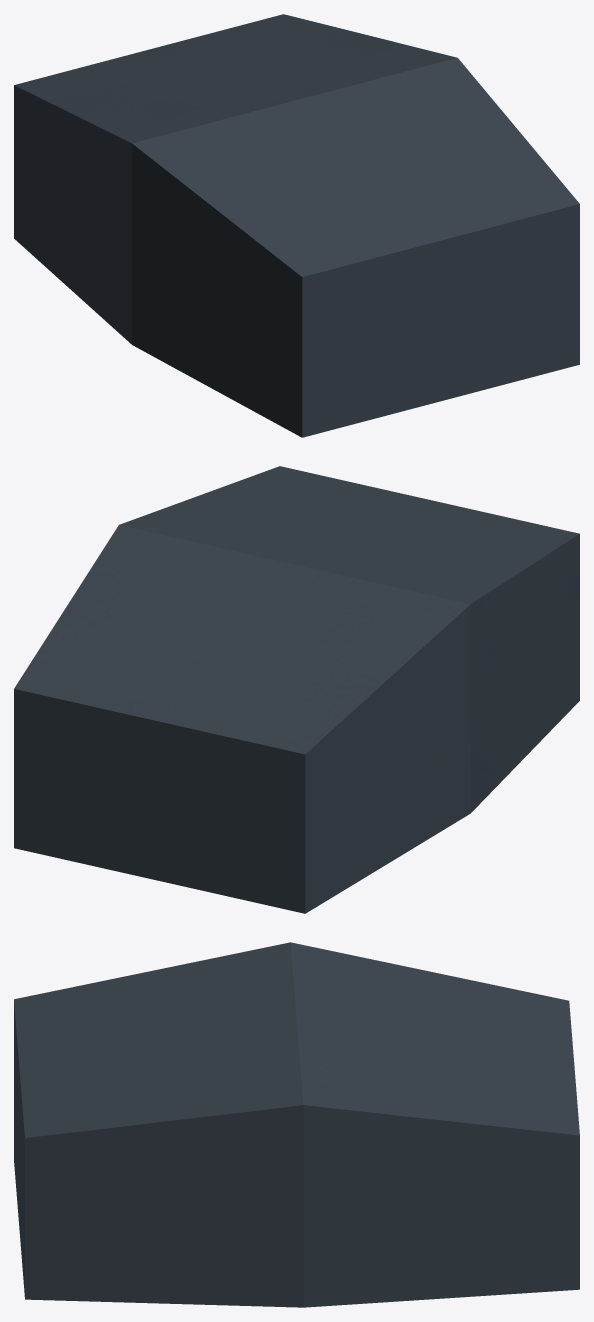
File: 05_computer_mouse.glb
The picture shows the model from 3 angles, top to bottom: view 1: azimuth 30°, elevation 25°; view 2: azimuth 150°, elevation 25°; view 3: azimuth 270°, elevation 25°; orthographic projection. The views are drawn at different scales.
Parts seen in each view (by area): view 1: 05_computer_mouse_Intact; view 2: 05_computer_mouse_Intact; view 3: 05_computer_mouse_Intact.
Part boxes in pixels (x1,y1,x2,y2): 05_computer_mouse_Intact: [14, 14, 579, 437]; 05_computer_mouse_Intact: [14, 466, 579, 913]; 05_computer_mouse_Intact: [14, 942, 579, 1307].
Size of the model in its own units: 0.0739 by 0.0429 by 0.1086.
1 material, 1 textured.
